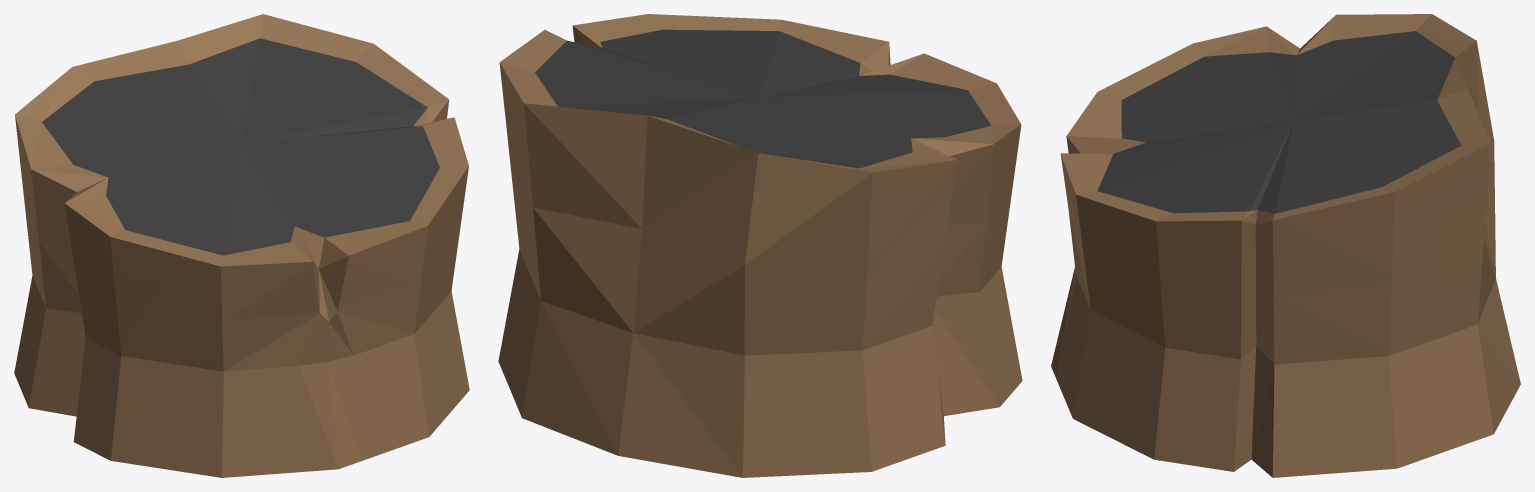
Rendered from stump_Medium_01.fbx.
3 renders of one model, left to right at view 1: azimuth 30°, elevation 25°; view 2: azimuth 150°, elevation 25°; view 3: azimuth 270°, elevation 25°, orthographic. The views are drawn at different scales.
Visible parts, largest first — view 1: Stump; view 2: Stump; view 3: Stump.
Boxes of the visible parts, x1,y1,x2,y2 form: Stump: (14,14,469,477); Stump: (498,14,1022,477); Stump: (1051,14,1520,477).
Bounding box in the file's own units: 62.45 × 42.63 × 61.35.
